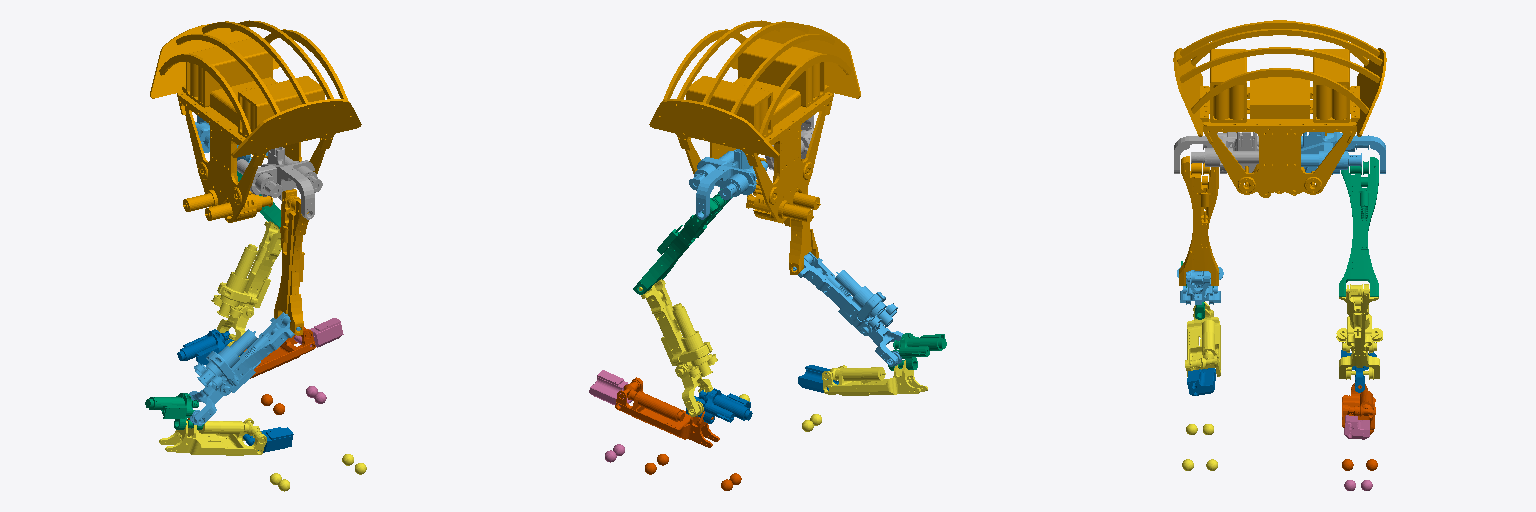
The robot description file, URDF, robot "Legs":
<?xml version="1.0" ?>
<robot name="Legs">

  <transmission name="l_b_h_trans" type="pr2_mechanism_model/SimpleTransmission">
    <actuator name="l_b_h_motor"/>
    <joint name="Biped__Body-Left_Hip"/>
    <mechanicalReduction>1</mechanicalReduction>
  </transmission>
  <transmission name="l_h_tl_trans" type="pr2_mechanism_model/SimpleTransmission">
    <actuator name="l_h_tl_motor"/>
    <joint name="Biped__Left_Hip-Top_Left_Leg"/>
    <mechanicalReduction>1</mechanicalReduction>
  </transmission>
  <transmission name="l_tl_bl_trans" type="pr2_mechanism_model/SimpleTransmission">
    <actuator name="l_tl_bl_motor"/>
    <joint name="Biped__Top_Left_Leg-Bottom_Left_Leg"/>
    <mechanicalReduction>1</mechanicalReduction>
  </transmission>
  <transmission name="l_bl_a_trans" type="pr2_mechanism_model/SimpleTransmission">
    <actuator name="l_bl_a_hpz_motor"/>
    <joint name="Biped__Bottom_Left_Leg-Left_Ankle"/>
    <mechanicalReduction>1</mechanicalReduction>
  </transmission>
  <transmission name="l_a_f_trans" type="pr2_mechanism_model/SimpleTransmission">
    <actuator name="l_a_f_motor"/>
    <joint name="Biped__Left_Ankle-Left_Foot"/>
    <mechanicalReduction>1</mechanicalReduction>
  </transmission>
  <transmission name="l_f_t_trans" type="pr2_mechanism_model/SimpleTransmission">
    <actuator name="l_f_t_motor"/>
    <joint name="Biped__Left_Foot-Left_Toe"/>
    <mechanicalReduction>1</mechanicalReduction>
  </transmission>
  <transmission name="r_b_h_trans" type="pr2_mechanism_model/SimpleTransmission">
    <actuator name="r_b_h_motor"/>
    <joint name="Biped__Body-Right_Hip"/>
    <mechanicalReduction>1</mechanicalReduction>
  </transmission>
  <transmission name="r_h_tl_trans" type="pr2_mechanism_model/SimpleTransmission">
    <actuator name="r_h_tl_motor"/>
    <joint name="Biped__Right_Hip-Top_Right_Leg"/>
    <mechanicalReduction>1</mechanicalReduction>
  </transmission>
  <transmission name="r_tl_bl_trans" type="pr2_mechanism_model/SimpleTransmission">
    <actuator name="r_tl_bl_motor"/>
    <joint name="Biped__Top_Right_Leg-Bottom_Right_Leg"/>
    <mechanicalReduction>1</mechanicalReduction>
  </transmission>
  <transmission name="r_bl_a_trans" type="pr2_mechanism_model/SimpleTransmission">
    <actuator name="r_bl_a_hpz_motor"/>
    <joint name="Biped__Bottom_Right_Leg-Right_Ankle"/>
    <mechanicalReduction>1</mechanicalReduction>
  </transmission>
  <transmission name="r_a_f_trans" type="pr2_mechanism_model/SimpleTransmission">
    <actuator name="r_a_f_motor"/>
    <joint name="Biped__Right_Ankle-Right_Foot"/>
    <mechanicalReduction>1</mechanicalReduction>
  </transmission>
  <transmission name="r_f_t_trans" type="pr2_mechanism_model/SimpleTransmission">
    <actuator name="r_f_t_motor"/>
    <joint name="Biped__Right_Foot-Right_Toe"/>
    <mechanicalReduction>1</mechanicalReduction>
  </transmission>




  <joint name="Biped__Body-Left_Hip" type="revolute">
    <parent link="pelvis"/>
    <child link="Biped__Left_Hip"/>
    <origin rpy="1.56567  0      -1.57079" xyz="0.00302  0.05556  0.51514"/>
    <axis xyz="0      -0.00511  0.99998"/>
    <limit effort="100.0" lower="-0.486936705914" upper="0.628150227902" velocity="0.0"/>
  </joint>
  <joint name="Biped__Left_Hip-Top_Left_Leg" type="revolute">
    <parent link="Biped__Left_Hip"/>
    <child link="Biped__Top_Left_Leg"/>
    <origin rpy="0  0  0" xyz="-8.05900000e-02  -1.00000000e-05   3.02000000e-03"/>
    <axis xyz="-1  0  0"/>
    <limit effort="100.0" lower="-2.03583339041" upper="2.16044300072" velocity="0.0"/>
  </joint>
  <joint name="Biped__Top_Left_Leg-Bottom_Left_Leg" type="revolute">
    <parent link="Biped__Top_Left_Leg"/>
    <child link="Biped__Bottom_Left_Leg"/>
    <origin rpy="0  0  0" xyz="0.00373 -0.20954 -0.00107"/>
    <axis xyz="-1  0  0"/>
    <limit effort="100.0" lower="-2.61562604133" upper="2.60767984583" velocity="0.0"/>
  </joint>
  <joint name="Biped__Bottom_Left_Leg-Left_Ankle" type="revolute">
    <parent link="Biped__Bottom_Left_Leg"/>
    <child link="Biped__Left_Ankle"/>
    <origin rpy="0  0  0" xyz="-1.50000000e-04  -2.21290000e-01  -1.13000000e-03"/>
    <axis xyz="-1  0  0"/>
    <limit effort="100.0" lower="-1.36043531266" upper="0.135930877095" velocity="0.0"/>
  </joint>
  <joint name="Biped__Left_Ankle-Left_Foot" type="revolute">
    <parent link="Biped__Left_Ankle"/>
    <child link="l_foot"/>
    <origin rpy="0  0  0" xyz="-0.00077 -0.0179  -0.06914"/>
    <axis xyz="0      -0.00511  0.99998"/>
    <limit effort="100.0" lower="-1.32128191897" upper="1.32128191897" velocity="0.0"/>
  </joint>
  <joint name="Biped__Left_Foot-Left_Toe" type="revolute">
    <parent link="l_foot"/>
    <child link="l_toe"/>
    <origin rpy="0  0  0" xyz="0.00232 -0.03426 -0.06708"/>
    <axis xyz="-1  0  0"/>
    <limit effort="100.0" lower="-0.421908321567" upper="1.92797301525" velocity="0.0"/>
  </joint>
  <joint name="Biped__Body-Right_Hip" type="revolute">
    <parent link="pelvis"/>
    <child link="Biped__Right_Hip"/>
    <origin rpy="1.56567  0      -1.57079" xyz="-0.00313 -0.05556  0.51514"/>
    <axis xyz="0       0.00511 -0.99998"/>
    <limit effort="100.0" lower="-0.450917249297" upper="0.628150227902" velocity="0.0"/>
  </joint>
  <joint name="Biped__Right_Hip-Top_Right_Leg" type="revolute">
    <parent link="Biped__Right_Hip"/>
    <child link="Biped__Top_Right_Leg"/>
    <origin rpy="0  0  0" xyz="7.52400000e-02   1.00000000e-05  -3.13000000e-03"/>
    <axis xyz="-1  0  0"/>
    <limit effort="100.0" lower="-2.03583339041" upper="2.16044300072" velocity="0.0"/>
  </joint>
  <joint name="Biped__Top_Right_Leg-Bottom_Right_Leg" type="revolute">
    <parent link="Biped__Top_Right_Leg"/>
    <child link="Biped__Bottom_Right_Leg"/>
    <origin rpy="0  0  0" xyz="0.00328 -0.20954 -0.00107"/>
    <axis xyz="-1  0  0"/>
    <limit effort="100.0" lower="-2.60767984583" upper="2.60767984583" velocity="0.0"/>
  </joint>
  <joint name="Biped__Bottom_Right_Leg-Right_Ankle" type="revolute">
    <parent link="Biped__Bottom_Right_Leg"/>
    <child link="Biped__Right_Ankle"/>
    <origin rpy="0  0  0" xyz="4.00000000e-05  -2.21290000e-01  -1.13000000e-03"/>
    <axis xyz="-1  0  0"/>
    <limit effort="100.0" lower="-1.34264425814" upper="0.135930877095" velocity="0.0"/>
  </joint>
  <joint name="Biped__Right_Ankle-Right_Foot" type="revolute">
    <parent link="Biped__Right_Ankle"/>
    <child link="r_foot"/>
    <origin rpy="0  0  0" xyz="-0.00079 -0.01789 -0.07124"/>
    <axis xyz="0       0.00511 -0.99998"/>
    <limit effort="100.0" lower="-1.32128191897" upper="1.32128191897" velocity="0.0"/>
  </joint>
  <joint name="Biped__Right_Foot-Right_Toe" type="revolute">
    <parent link="r_foot"/>
    <child link="r_toe"/>
    <origin rpy="0  0  0" xyz="0.00258 -0.03427 -0.06497"/>
    <axis xyz="-1  0  0"/>
    <limit effort="100.0" lower="-0.421908321567" upper="1.92797301525" velocity="0.0"/>
  </joint>
  <link name="pelvis">
    <inertial>
      <mass value="3.53324885586669"/>
      <origin rpy="1.56567  0      -1.57079" xyz="-7.68000000e-03   1.70000000e-04   6.24330000e-01"/>
      <inertia ixx="0.0271179077728007" ixy="1.18852566353138E-05" ixz="2.95478792996208E-05" iyy="0.0323353494450389" iyz="0.00289482168449842" izz="0.0422145237899791"/>
    </inertial>
    <collision name="Biped__Body_collision">
      <origin rpy="1.56567  0      -1.57079" xyz="0.07092  0.0594   0.21269"/>
      <geometry>
        <mesh filename="meshes/Body_col.STL" scale="1 1 1"/>
      </geometry>
    </collision>
    <visual name="Biped__Body_visual">
      <origin rpy="1.56567  0      -1.57079" xyz="0.07092  0.0594   0.21269"/>
      <geometry>
        <mesh filename="meshes/Body.STL" scale="1 1 1"/>
      </geometry>
    </visual>
  </link>
  <link name="Biped__Left_Hip">
    <inertial>
      <mass value="0.437298303222345"/>
      <origin rpy="0  0  0" xyz="-0.03492  0.03099  0.00015"/>
      <inertia ixx="0.000344658356090036" ixy="1.4438940947967E-05" ixz="5.03774354824921E-05" iyy="0.000819710121372963" iyz="1.99893504999227E-05" izz="0.00066955963284712"/>
    </inertial>
    <collision name="Biped__Left_Hip_collision">
      <origin rpy="0  0  0" xyz="-0.00384 -0.3021  -0.06945"/>
      <geometry>
        <mesh filename="meshes/Left_Hip_col.STL" scale="1 1 1"/>
      </geometry>
    </collision>
    <visual name="Biped__Left_Hip_visual">
      <origin rpy="0  0  0" xyz="-0.00384 -0.3021  -0.06945"/>
      <geometry>
        <mesh filename="meshes/Left_Hip.STL" scale="1 1 1"/>
      </geometry>
    </visual>
  </link>
  <link name="Biped__Top_Left_Leg">
    <inertial>
      <mass value="0.498661421818378"/>
      <origin rpy="0  0  0" xyz="0      -0.09292 -0.00071"/>
      <inertia ixx="0.00222023286489819" ixy="2.76170328092637E-05" ixz="4.42071982951624E-07" iyy="0.000133616406118555" iyz="1.5209311638611E-05" izz="0.00230781854965746"/>
    </inertial>
    <collision name="Biped__Top_Left_Leg_collision">
      <origin rpy="0  0  0" xyz="0.07675 -0.30208 -0.07247"/>
      <geometry>
        <mesh filename="meshes/Top_Left_Leg_col.STL" scale="1 1 1"/>
      </geometry>
    </collision>
    <visual name="Biped__Top_Left_Leg_visual">
      <origin rpy="0  0  0" xyz="0.07675 -0.30208 -0.07247"/>
      <geometry>
        <mesh filename="meshes/Top_Left_Leg.STL" scale="1 1 1"/>
      </geometry>
    </visual>
  </link>
  <link name="Biped__Bottom_Left_Leg">
    <inertial>
      <mass value="0.512558545145301"/>
      <origin rpy="0  0  0" xyz="0      -0.11018  0.00843"/>
      <inertia ixx="0.00213377963819277" ixy="3.74835359824284E-05" ixz="4.14809936352257E-06" iyy="0.000231679313040171" iyz="0.000107877166470471" izz="0.0021213704718963"/>
    </inertial>
    <collision name="Biped__Bottom_Left_Leg_collision">
      <origin rpy="0  0  0" xyz="0.07301 -0.09254 -0.0714"/>
      <geometry>
        <mesh filename="meshes/Bottom_Left_Leg_col.STL" scale="1 1 1"/>
      </geometry>
    </collision>
    <visual name="Biped__Bottom_Left_Leg_visual">
      <origin rpy="0  0  0" xyz="0.07301 -0.09254 -0.0714"/>
      <geometry>
        <mesh filename="meshes/Bottom_Left_Leg.STL" scale="1 1 1"/>
      </geometry>
    </visual>
  </link>
  <link name="Biped__Left_Ankle">
    <inertial>
      <mass value="0.117206413777382"/>
      <origin rpy="0  0  0" xyz="0       0.00525  0.02552"/>
      <inertia ixx="0.000111896827570048" ixy="5.94543100842475E-07" ixz="2.57140126177776E-06" iyy="0.000105965848764851" iyz="2.65868228080628E-05" izz="4.20803404080659E-05"/>
    </inertial>
    <collision name="Biped__Left_Ankle_collision">
      <origin rpy="0  0  0" xyz="0.07317  0.12875 -0.07027"/>
      <geometry>
        <mesh filename="meshes/Left_Ankle_col.STL" scale="1 1 1"/>
      </geometry>
    </collision>
    <visual name="Biped__Left_Ankle_visual">
      <origin rpy="0  0  0" xyz="0.07317  0.12875 -0.07027"/>
      <geometry>
        <mesh filename="meshes/Left_Ankle.STL" scale="1 1 1"/>
      </geometry>
    </visual>
  </link>
  <link name="l_foot">
    <inertial>
      <mass value="0.350801552548944"/>
      <origin rpy="0  0  0" xyz="-0.00146 -0.02757 -0.00014"/>
      <inertia ixx="0.000904665834453429" ixy="7.01175958971625E-06" ixz="4.60520410965569E-06" iyy="0.000926980236054857" iyz="5.01437405892954E-05" izz="0.00014911487451342"/>
    </inertial>
    <collision name="Biped__Left_Foot_collision">
      <origin rpy="0  0  0" xyz="0.07394  0.14666 -0.00112"/>
      <geometry>
        <mesh filename="meshes/Left_Foot_col.STL" scale="1 1 1"/>
      </geometry>
    </collision>
    <visual name="Biped__Left_Foot_visual">
      <origin rpy="0  0  0" xyz="0.07394  0.14666 -0.00112"/>
      <geometry>
        <mesh filename="meshes/Left_Foot.STL" scale="1 1 1"/>
      </geometry>
    </visual>

    <collision group="heel">
      <origin rpy="0 0 0" xyz="0.0139 -0.048 0.1002"/>
      <geometry>
        <sphere radius="0.0"/>
      </geometry>
    </collision>
    <visual group="heel">
      <origin rpy="0 0 0" xyz="0.0139 -0.048 0.1002"/>
      <geometry>
        <sphere radius="0.01"/>
      </geometry>
    </visual>
    <collision group="heel">
      <origin rpy="0 0 0" xyz="-0.0139 -0.048 0.1002"/>
      <geometry>
        <sphere radius="0.0"/>
      </geometry>
    </collision>
    <visual group="heel">
      <origin rpy="0 0 0" xyz="-0.0139 -0.048 0.1002"/>
      <geometry>
        <sphere radius="0.01"/>
      </geometry>
    </visual>

    <collision group="midfoot">
      <origin rpy="0 0 0" xyz="0.0203 -0.0472 -0.0413"/>
      <geometry>
        <sphere radius="0.0"/>
      </geometry>
    </collision>
    <visual group="midfoot">
      <origin rpy="0 0 0" xyz="0.0203 -0.0472 -0.0413"/>
      <geometry>
        <sphere radius="0.01"/>
      </geometry>
    </visual>
    <collision group="midfoot">
      <origin rpy="0 0 0" xyz="-0.0203 -0.0472 -0.0413"/>
      <geometry>
        <sphere radius="0.0"/>
      </geometry>
    </collision>
    <visual group="midfoot">
      <origin rpy="0 0 0" xyz="-0.0203 -0.0472 -0.0413"/>
      <geometry>
        <sphere radius="0.01"/>
      </geometry>
    </visual>

  </link>
  <link name="l_toe">
    <inertial>
      <mass value="0.137471301666086"/>
      <origin rpy="0  0  0" xyz="0       0.00024 -0.03181"/>
      <inertia ixx="5.08521148560519E-05" ixy="3.52897714651812E-06" ixz="4.05786167235431E-06" iyy="6.19912432858944E-05" iyz="1.63142203902691E-06" izz="2.56251883813568E-05"/>
    </inertial>
    <collision name="Biped__Left_Toe_collision">
      <origin rpy="0  0  0" xyz="0.07162  0.18092  0.06595"/>
      <geometry>
        <mesh filename="meshes/Left_Toe_col.STL" scale="1 1 1"/>
      </geometry>
    </collision>
    <visual name="Biped__Left_Toe_visual">
      <origin rpy="0  0  0" xyz="0.07162  0.18092  0.06595"/>
      <geometry>
        <mesh filename="meshes/Left_Toe.STL" scale="1 1 1"/>
      </geometry>
    </visual>

    <collision group="toe">
      <origin rpy="0 0 0" xyz="0.0137 -0.0127 -0.0548"/>
      <geometry>
        <sphere radius="0.0"/>
      </geometry>
    </collision>
    <visual group="toe">
      <origin rpy="0 0 0" xyz="0.0137 -0.0127 -0.0548"/>
      <geometry>
        <sphere radius="0.01"/>
      </geometry>
    </visual>
    <collision group="toe">
      <origin rpy="0 0 0" xyz="-0.0141 -0.0127 -0.0548"/>
      <geometry>
        <sphere radius="0.0"/>
      </geometry>
    </collision>
    <visual group="toe">
      <origin rpy="0 0 0" xyz="-0.0141 -0.0127 -0.0548"/>
      <geometry>
        <sphere radius="0.01"/>
      </geometry>
    </visual>

  </link>
  <link name="Biped__Right_Hip">
    <inertial>
      <mass value="0.429542604129865"/>
      <origin rpy="0  0  0" xyz="0.03461  0.03088  0.00015"/>
      <inertia ixx="0.000335620222780637" ixy="1.71766252899159E-05" ixz="6.82036560203188E-05" iyy="0.000796625170345829" iyz="1.87749814800264E-05" izz="0.000651844767117383"/>
    </inertial>
    <collision name="Biped__Right_Hip_collision">
      <origin rpy="0  0  0" xyz="-0.11497 -0.30207 -0.0756"/>
      <geometry>
        <mesh filename="meshes/Right_Hip_col.STL" scale="1 1 1"/>
      </geometry>
    </collision>
    <visual name="Biped__Right_Hip_visual">
      <origin rpy="0  0  0" xyz="-0.11497 -0.30207 -0.0756"/>
      <geometry>
        <mesh filename="meshes/Right_Hip.STL" scale="1 1 1"/>
      </geometry>
    </visual>
  </link>
  <link name="Biped__Top_Right_Leg">
    <inertial>
      <mass value="0.473894617598188"/>
      <origin rpy="0  0  0" xyz="0      -0.09427 -0.00073"/>
      <inertia ixx="0.00219613513040201" ixy="2.41554166439975E-05" ixz="4.92477643768768E-07" iyy="0.000130736562803138" iyz="1.49414818095768E-05" izz="0.00228460638702232"/>
    </inertial>
    <collision name="Biped__Top_Right_Leg_collision">
      <origin rpy="0  0  0" xyz="-0.19021 -0.30208 -0.07247"/>
      <geometry>
        <mesh filename="meshes/Top_Right_Leg_col.STL" scale="1 1 1"/>
      </geometry>
    </collision>
    <visual name="Biped__Top_Right_Leg_visual">
      <origin rpy="0  0  0" xyz="-0.19021 -0.30208 -0.07247"/>
      <geometry>
        <mesh filename="meshes/Top_Right_Leg.STL" scale="1 1 1"/>
      </geometry>
    </visual>
  </link>
  <link name="Biped__Bottom_Right_Leg">
    <inertial>
      <mass value="0.496399914621672"/>
      <origin rpy="0  0  0" xyz="0      -0.11414  0.00893"/>
      <inertia ixx="0.00193251368574828" ixy="2.87905126861506E-05" ixz="3.64310219704147E-06" iyy="0.000228879661927419" iyz="9.27392912409724E-05" izz="0.00191229395918849"/>
    </inertial>
    <collision name="Biped__Bottom_Right_Leg_collision">
      <origin rpy="0  0  0" xyz="-0.1935  -0.09254 -0.0714"/>
      <geometry>
        <mesh filename="meshes/Bottom_Right_Leg_col.STL" scale="1 1 1"/>
      </geometry>
    </collision>
    <visual name="Biped__Bottom_Right_Leg_visual">
      <origin rpy="0  0  0" xyz="-0.1935  -0.09254 -0.0714"/>
      <geometry>
        <mesh filename="meshes/Bottom_Right_Leg.STL" scale="1 1 1"/>
      </geometry>
    </visual>
  </link>
  <link name="Biped__Right_Ankle">
    <inertial>
      <mass value="0.113529232705104"/>
      <origin rpy="0  0  0" xyz="0       0.00601  0.02692"/>
      <inertia ixx="0.000102683690789615" ixy="5.24094963661094E-07" ixz="2.43532379680455E-06" iyy="9.8810717962194E-05" iyz="2.27559446851328E-05" izz="3.98903277983113E-05"/>
    </inertial>
    <collision name="Biped__Right_Ankle_collision">
      <origin rpy="0  0  0" xyz="-0.19355  0.12875 -0.07027"/>
      <geometry>
        <mesh filename="meshes/Right_Ankle_col.STL" scale="1 1 1"/>
      </geometry>
    </collision>
    <visual name="Biped__Right_Ankle_visual">
      <origin rpy="0  0  0" xyz="-0.19355  0.12875 -0.07027"/>
      <geometry>
        <mesh filename="meshes/Right_Ankle.STL" scale="1 1 1"/>
      </geometry>
    </visual>
  </link>
  <link name="r_foot">
    <inertial>
      <mass value="0.335422598099665"/>
      <origin rpy="0  0  0" xyz="-0.00156 -0.02863 -0.00014"/>
      <inertia ixx="0.000825311286057891" ixy="7.70619999918036E-06" ixz="7.38179683506509E-06" iyy="0.000855538414270564" iyz="7.08159606800129E-05" izz="0.000138582194390659"/>
    </inertial>
    <collision name="Biped__Right_Foot_collision">
      <origin rpy="0  0  0" xyz="-0.19275  0.14664  0.00097"/>
      <geometry>
        <mesh filename="meshes/Right_Foot_col.STL" scale="1 1 1"/>
      </geometry>
    </collision>
    <visual name="Biped__Right_Foot_visual">
      <origin rpy="0  0  0" xyz="-0.19275  0.14664  0.00097"/>
      <geometry>
        <mesh filename="meshes/Right_Foot.STL" scale="1 1 1"/>
      </geometry>
    </visual>

    <collision group="heel">
      <origin rpy="0 0 0" xyz="0.0139 -0.048 0.1015"/>
      <geometry>
        <sphere radius="0.0"/>
      </geometry>
    </collision>
    <visual group="heel">
      <origin rpy="0 0 0" xyz="0.0139 -0.048 0.1015"/>
      <geometry>
        <sphere radius="0.01"/>
      </geometry>
    </visual>
    <collision group="heel">
      <origin rpy="0 0 0" xyz="-0.0139 -0.048 0.1015"/>
      <geometry>
        <sphere radius="0.0"/>
      </geometry>
    </collision>
    <visual group="heel">
      <origin rpy="0 0 0" xyz="-0.0139 -0.048 0.1015"/>
      <geometry>
        <sphere radius="0.01"/>
      </geometry>
    </visual>

    <collision group="midfoot">
      <origin rpy="0 0 0" xyz="0.0202 -0.0473 -0.0395"/>
      <geometry>
        <sphere radius="0.0"/>
      </geometry>
    </collision>
    <visual group="midfoot">
      <origin rpy="0 0 0" xyz="0.0202 -0.0473 -0.0395"/>
      <geometry>
        <sphere radius="0.01"/>
      </geometry>
    </visual>
    <collision group="midfoot">
      <origin rpy="0 0 0" xyz="-0.0202 -0.0473 -0.0395"/>
      <geometry>
        <sphere radius="0.0"/>
      </geometry>
    </collision>
    <visual group="midfoot">
      <origin rpy="0 0 0" xyz="-0.0202 -0.0473 -0.0395"/>
      <geometry>
        <sphere radius="0.01"/>
      </geometry>
    </visual>

  </link>
  <link name="r_toe">
    <inertial>
      <mass value="0.139662029501898"/>
      <origin rpy="0  0  0" xyz="0.00000000e+00   9.00000000e-05  -3.13100000e-02"/>
      <inertia ixx="5.31151672530742E-05" ixy="3.50667566710867E-06" ixz="2.92506381385933E-06" iyy="6.48339665757882E-05" iyz="1.46916802312387E-06" izz="2.62562435591355E-05"/>
    </inertial>
    <collision name="Biped__Right_Toe_collision">
      <origin rpy="0  0  0" xyz="-0.19534  0.18092  0.06595"/>
      <geometry>
        <mesh filename="meshes/Right_Toe_col.STL" scale="1 1 1"/>
      </geometry>
    </collision>
    <visual name="Biped__Right_Toe_visual">
      <origin rpy="0  0  0" xyz="-0.19534  0.18092  0.06595"/>
      <geometry>
        <mesh filename="meshes/Right_Toe.STL" scale="1 1 1"/>
      </geometry>
    </visual>
  </link>

    <collision group="toe">
      <origin rpy="0 0 0" xyz="0.0117 -0.0127 -0.0541"/>
      <geometry>
        <sphere radius="0.0"/>
      </geometry>
    </collision>
    <visual group="toe">
      <origin rpy="0 0 0" xyz="0.0117 -0.0127 -0.0541"/>
      <geometry>
        <sphere radius="0.01"/>
      </geometry>
    </visual>
    <collision group="toe">
      <origin rpy="0 0 0" xyz="-0.0153 -0.0127 -0.0541"/>
      <geometry>
        <sphere radius="0.0"/>
      </geometry>
    </collision>
    <visual group="toe">
      <origin rpy="0 0 0" xyz="-0.0153 -0.0127 -0.0541"/>
      <geometry>
        <sphere radius="0.01"/>
      </geometry>
    </visual>

  <frame link="l_foot" name="Left_Foot_Sole" rpy="0 0 0" xyz="0.0426  0.0017 -0.07645"/>
  <frame link="r_foot" name="Right_Foot_Sole" rpy="0 0 0" xyz="0.0426 -0.0017 -0.07645"/>
  <frame link="l_toe" name="Left_Toe_Sole" rpy="0 0 0" xyz="0.1728 0.0017 -0.07645"/>
  <frame link="r_toe" name="Right_Toe_Sole" rpy="0 0 0" xyz="0.1728 -0.0017 -0.07645"/>

</robot>

--- Facts derived from the render (not from the file) ---
3 views of the same robot in one strip: view 1: azimuth 30°, elevation 25°; view 2: azimuth 150°, elevation 25°; view 3: azimuth 270°, elevation 25° (orthographic).
Robot: Legs — 13 links, 12 joints (12 revolute); root link pelvis; default pose: all joints at 0.
Links seen in each view (by area): view 1: pelvis, Biped__Bottom_Right_Leg, Biped__Bottom_Left_Leg, r_foot, Biped__Top_Right_Leg, Biped__Right_Hip, l_foot, Biped__Right_Ankle, Biped__Left_Ankle, l_toe, r_toe; view 2: pelvis, Biped__Bottom_Left_Leg, Biped__Bottom_Right_Leg, l_foot, r_foot, Biped__Left_Hip, Biped__Top_Left_Leg, Biped__Left_Ankle, Biped__Right_Ankle, Biped__Top_Right_Leg, l_toe, r_toe; view 3: pelvis, Biped__Top_Left_Leg, Biped__Top_Right_Leg, Biped__Bottom_Left_Leg, r_foot, Biped__Left_Hip, Biped__Right_Hip, l_foot, Biped__Bottom_Right_Leg, l_toe, r_toe.
Boxes of the visible links, x1,y1,x2,y2 form: pelvis: [150, 20, 361, 222]; Biped__Bottom_Right_Leg: [189, 312, 300, 425]; Biped__Bottom_Left_Leg: [211, 221, 281, 356]; r_foot: [159, 418, 366, 491]; Biped__Top_Right_Leg: [274, 189, 308, 335]; Biped__Right_Hip: [237, 147, 322, 219]; l_foot: [188, 326, 315, 419]; Biped__Right_Ankle: [145, 393, 203, 429]; Biped__Left_Ankle: [177, 329, 243, 364]; l_toe: [294, 318, 343, 403]; r_toe: [243, 427, 293, 452]; pelvis: [649, 20, 860, 223]; Biped__Bottom_Left_Leg: [639, 279, 717, 416]; Biped__Bottom_Right_Leg: [793, 252, 902, 366]; l_foot: [615, 377, 741, 490]; r_foot: [739, 360, 927, 431]; Biped__Left_Hip: [689, 149, 767, 219]; Biped__Top_Left_Leg: [633, 189, 731, 294]; Biped__Left_Ankle: [686, 388, 752, 423]; Biped__Right_Ankle: [888, 333, 946, 370]; Biped__Top_Right_Leg: [784, 130, 818, 274]; l_toe: [589, 370, 632, 462]; r_toe: [798, 365, 838, 392]; pelvis: [1173, 20, 1386, 197]; Biped__Top_Left_Leg: [1339, 157, 1378, 296]; Biped__Top_Right_Leg: [1179, 156, 1218, 285]; Biped__Bottom_Left_Leg: [1336, 284, 1382, 379]; r_foot: [1182, 302, 1220, 470]; Biped__Left_Hip: [1301, 132, 1385, 174]; Biped__Right_Hip: [1174, 132, 1258, 173]; l_foot: [1342, 383, 1377, 470]; Biped__Bottom_Right_Leg: [1177, 267, 1223, 304]; l_toe: [1344, 415, 1372, 490]; r_toe: [1187, 368, 1215, 395].
Size in the robot's own frame: 0.5126 by 0.3562 by 0.7619 metres.
Meshes: 13 distinct files referenced, 13 mesh visuals loaded (13 binary STL).